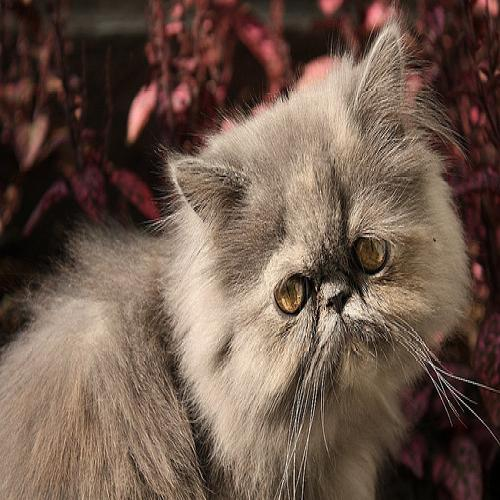persian: (163, 30, 474, 442)
